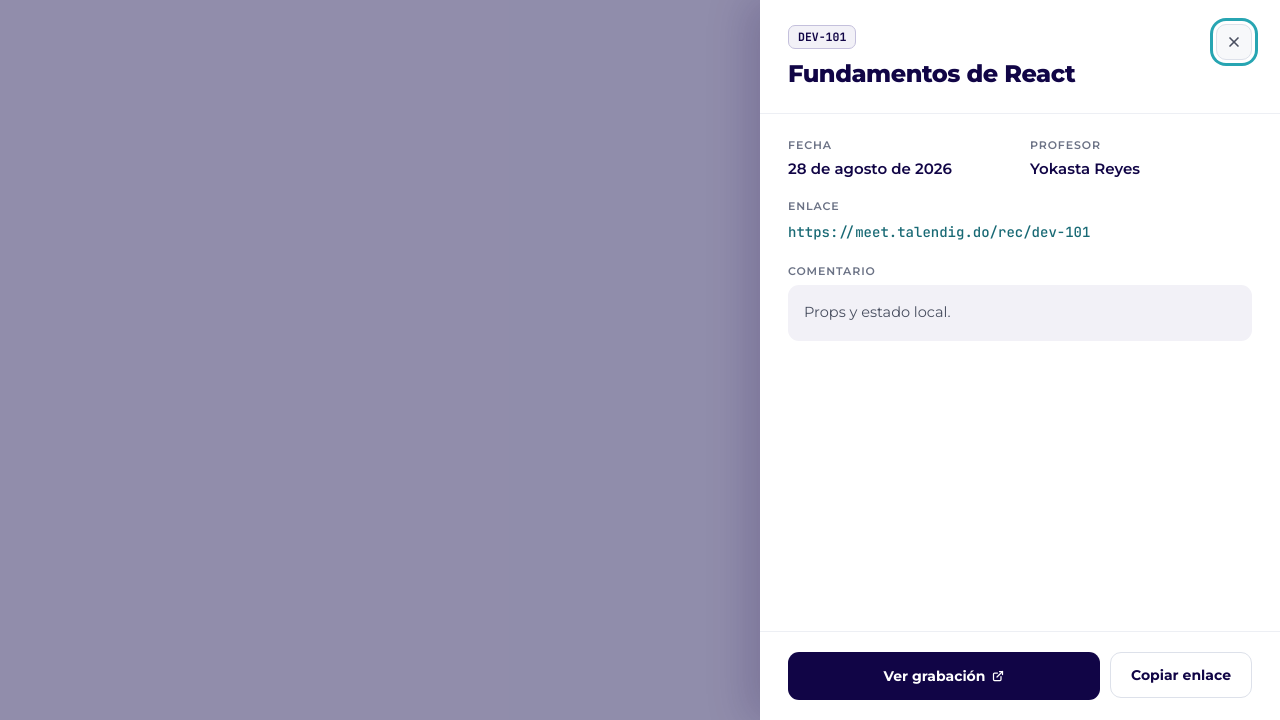
Scenario: ClassDetailDrawer › copies the recording link and confirms it
What coordinates should you click on to do the following:
click the button "Copiar enlace"
I would click on:
 (1181, 675)
Its box is [1110, 652, 1252, 698].
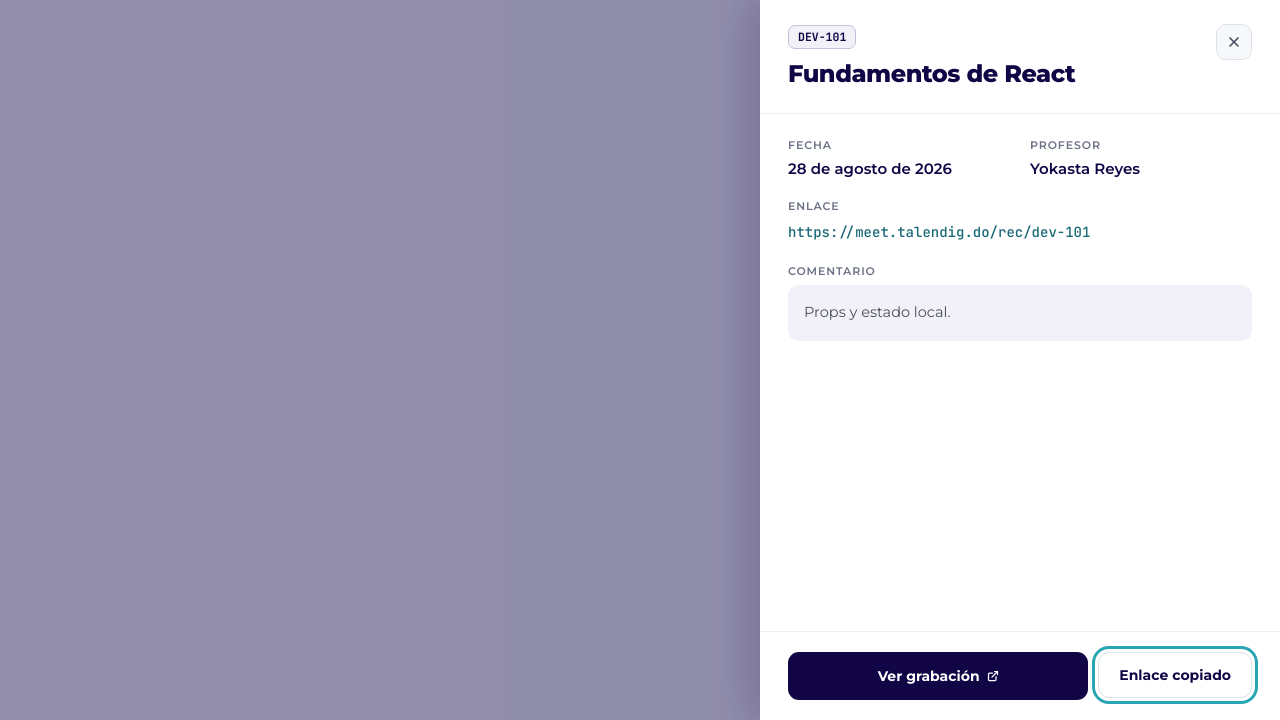
Result: the button "Enlace copiado" is shown at [1098, 652, 1252, 698]
